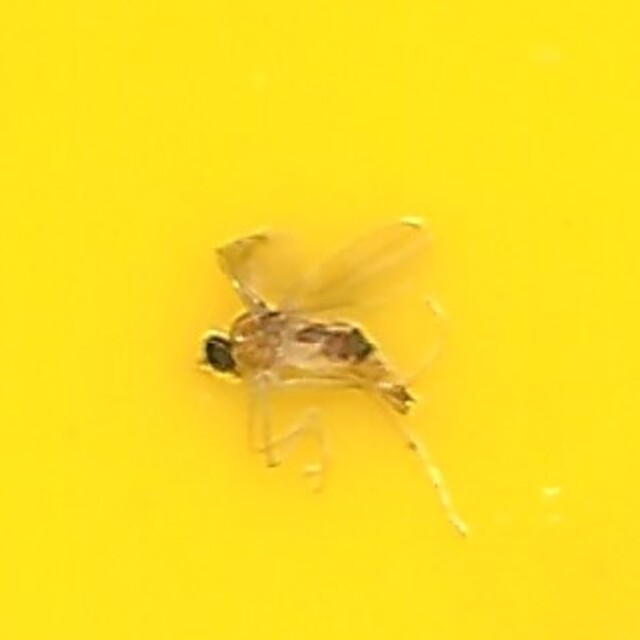Brachycera: (199, 221, 441, 419)
